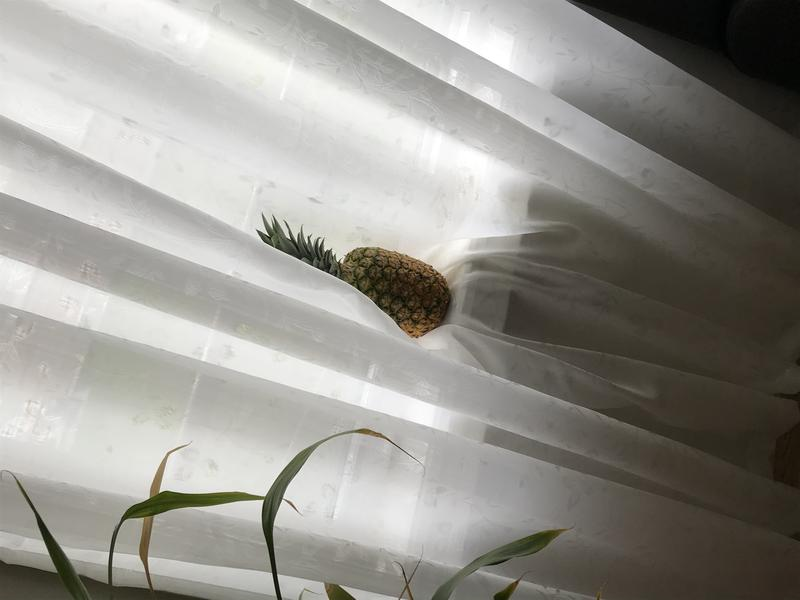pineapple: (244, 207, 460, 350)
